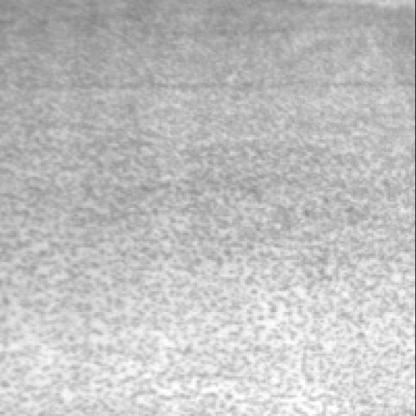pitted_surface: (6, 4, 416, 413)
